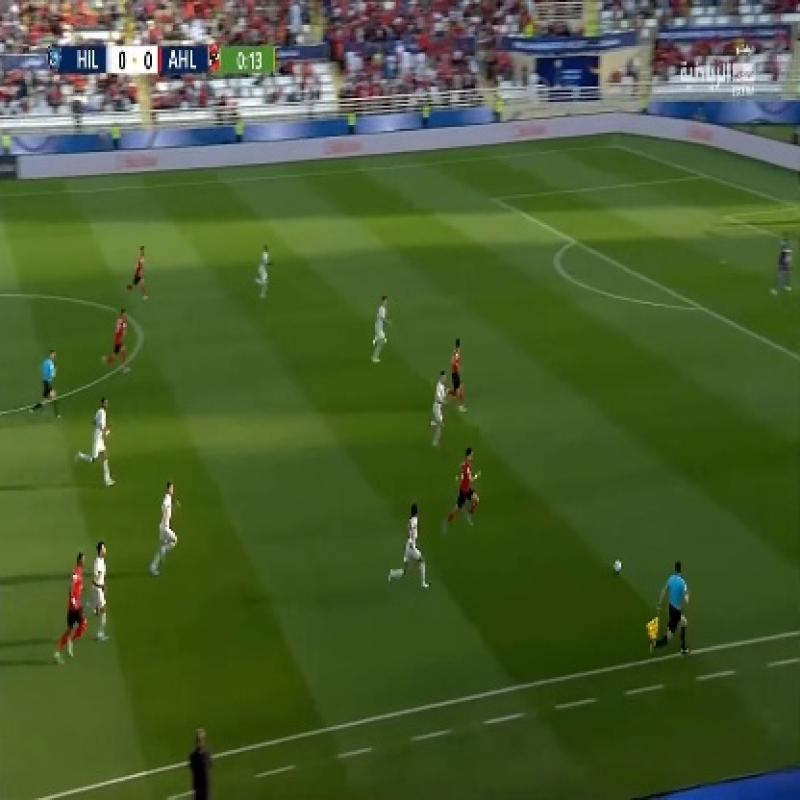1: (602, 134, 625, 154)
10: (560, 227, 584, 254)
11: (690, 294, 710, 318)
2: (690, 164, 714, 184)
3: (779, 192, 800, 213)
7: (715, 206, 738, 227)
9: (484, 186, 506, 210)
c: (125, 321, 156, 352)
